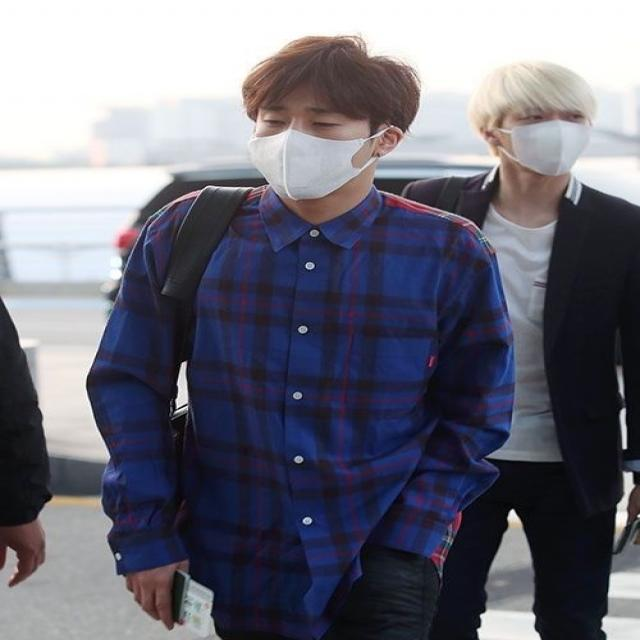mask: (250, 70, 370, 204), (500, 86, 588, 176)
